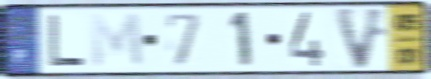1: (227, 9, 255, 70)
4: (288, 10, 326, 69)
7: (163, 12, 204, 68)
L: (47, 13, 88, 69)
M: (88, 11, 147, 70)
V: (332, 6, 390, 73)
